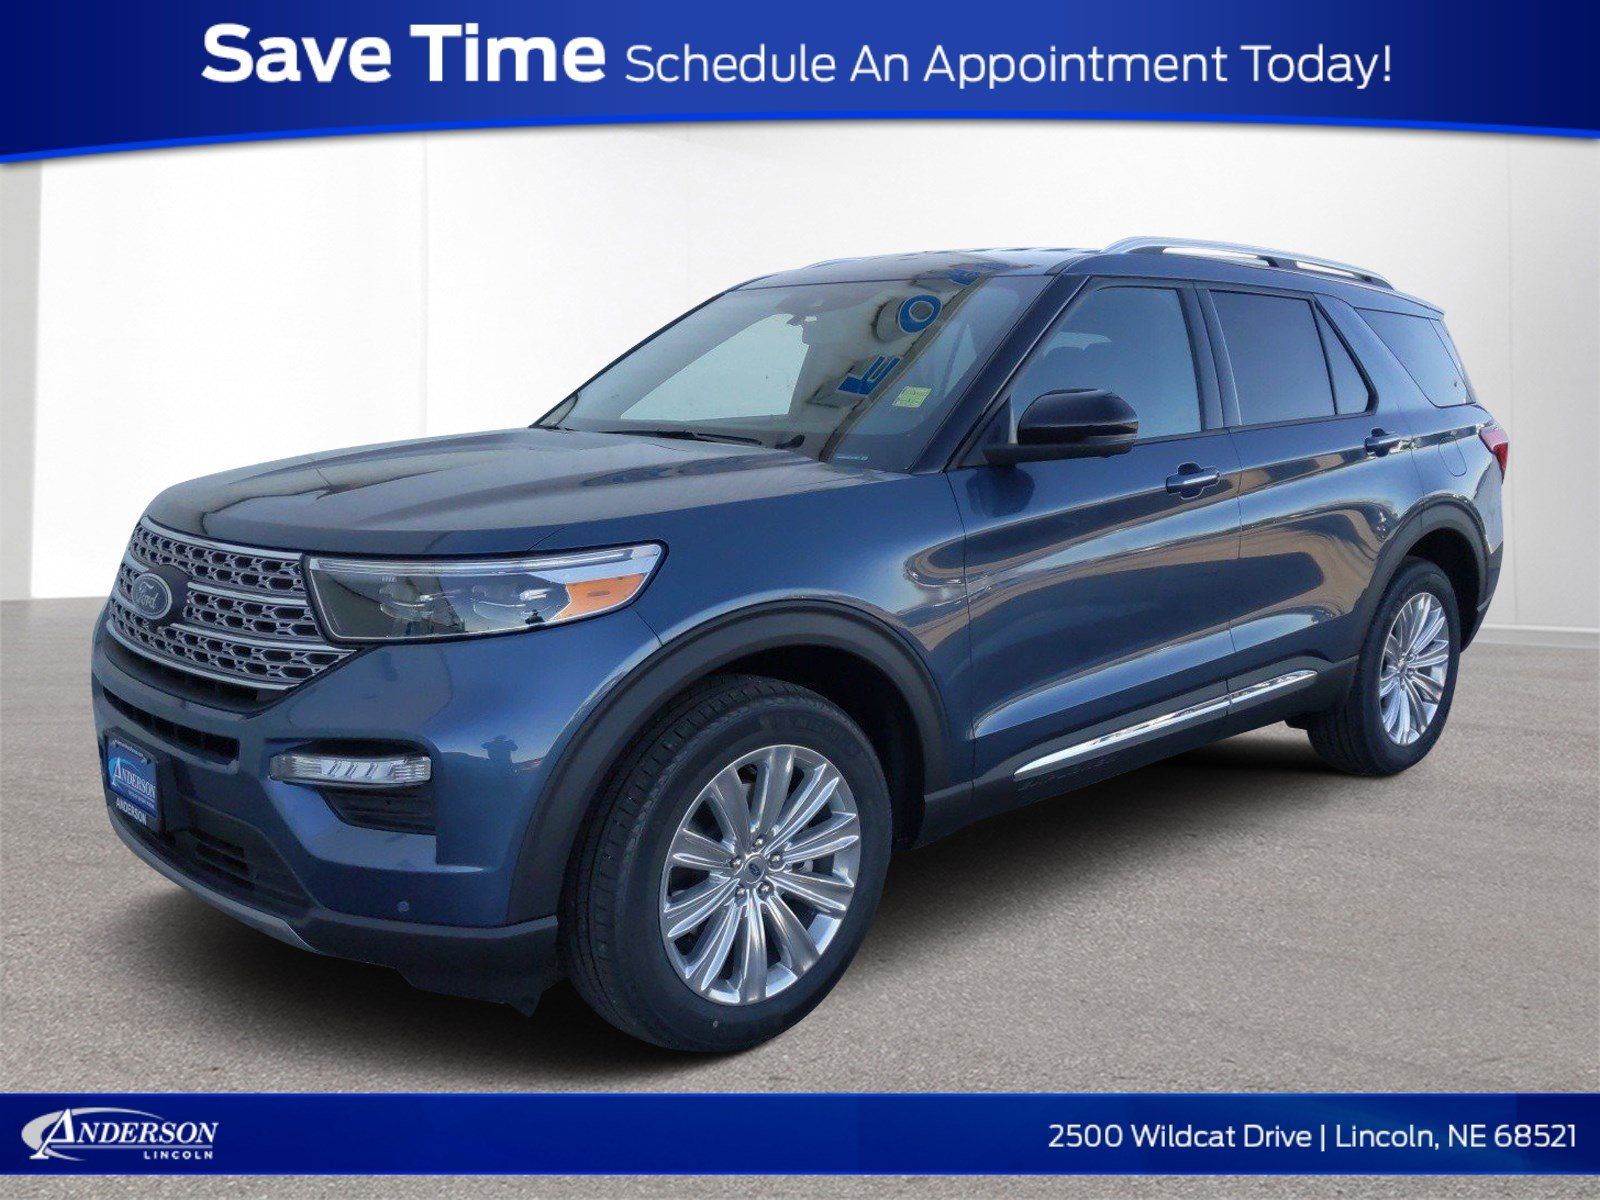Ford Explorer: (88, 233, 1517, 1055)
